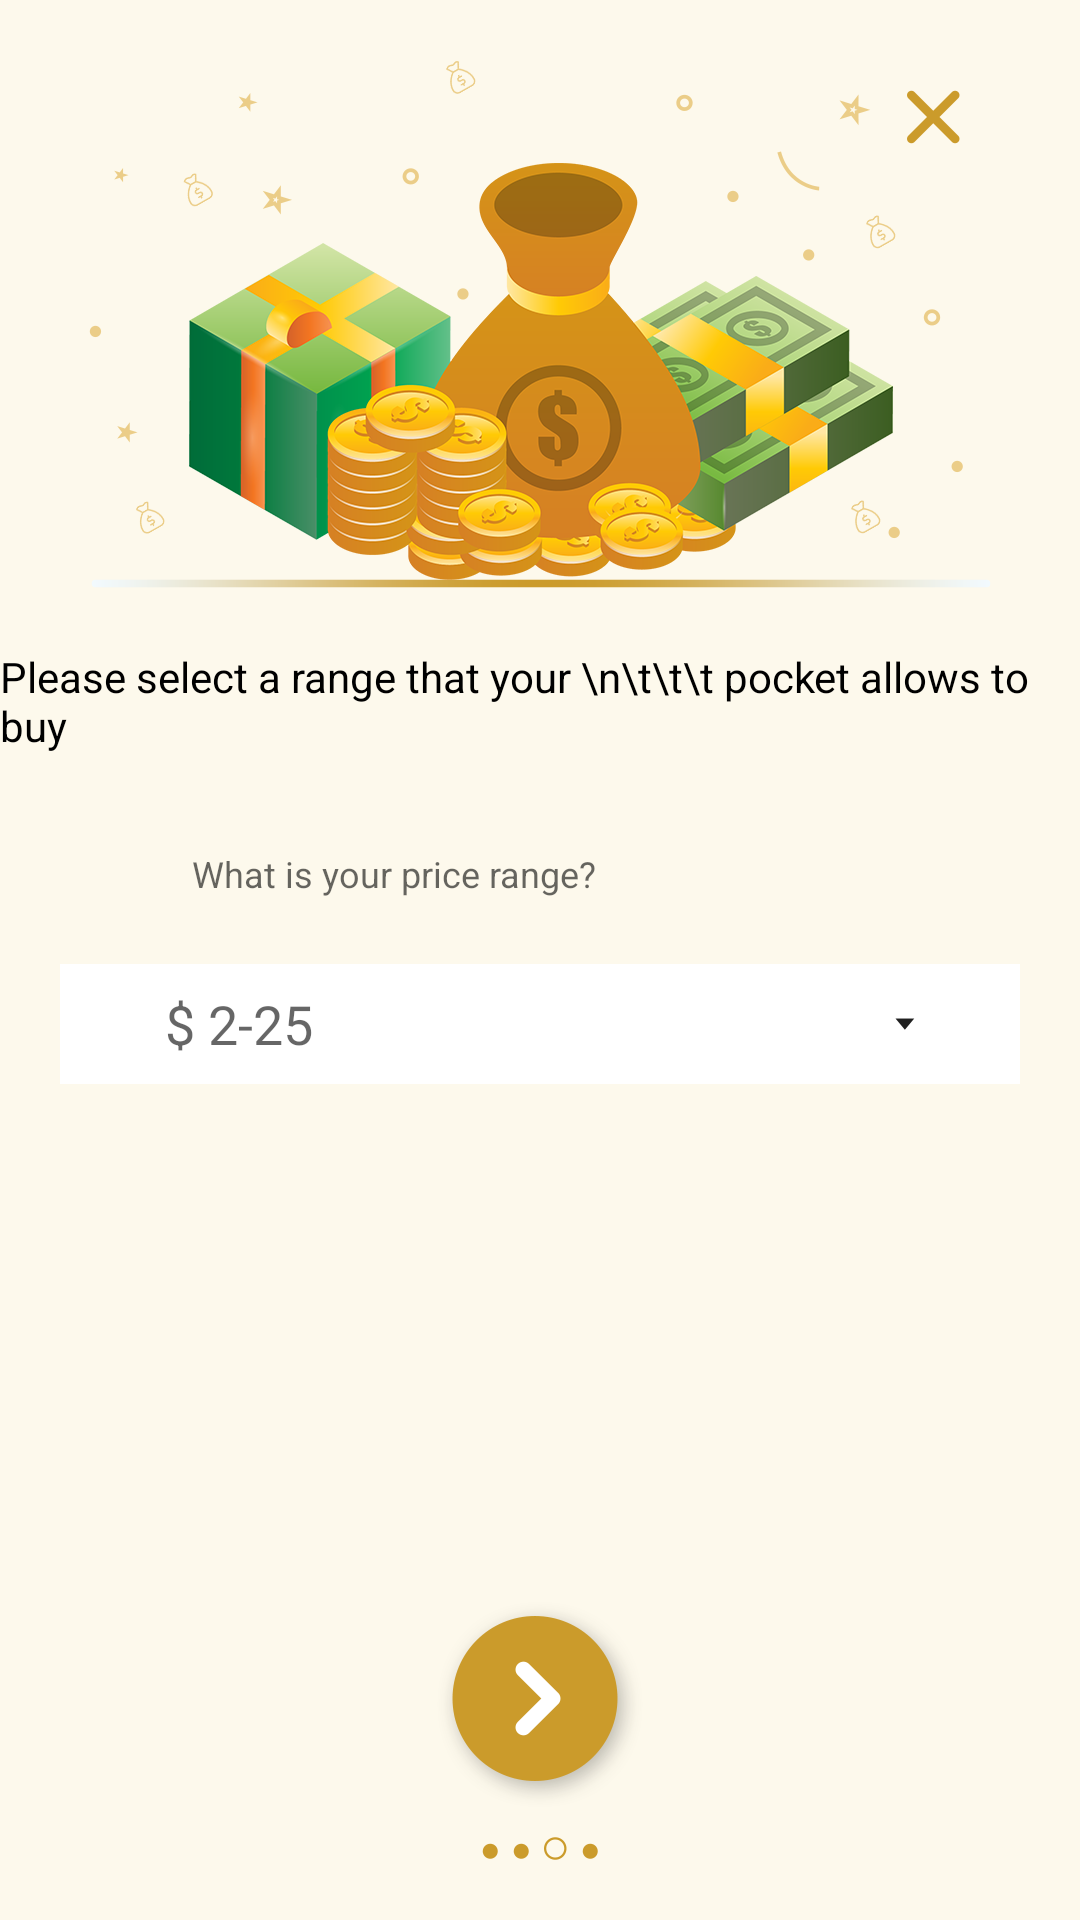

Named icons in this screenshot (1080×1920) and their centers, (x=x, y=y):
continuenext: (x=538, y=1703)
question cross: (x=933, y=117)
